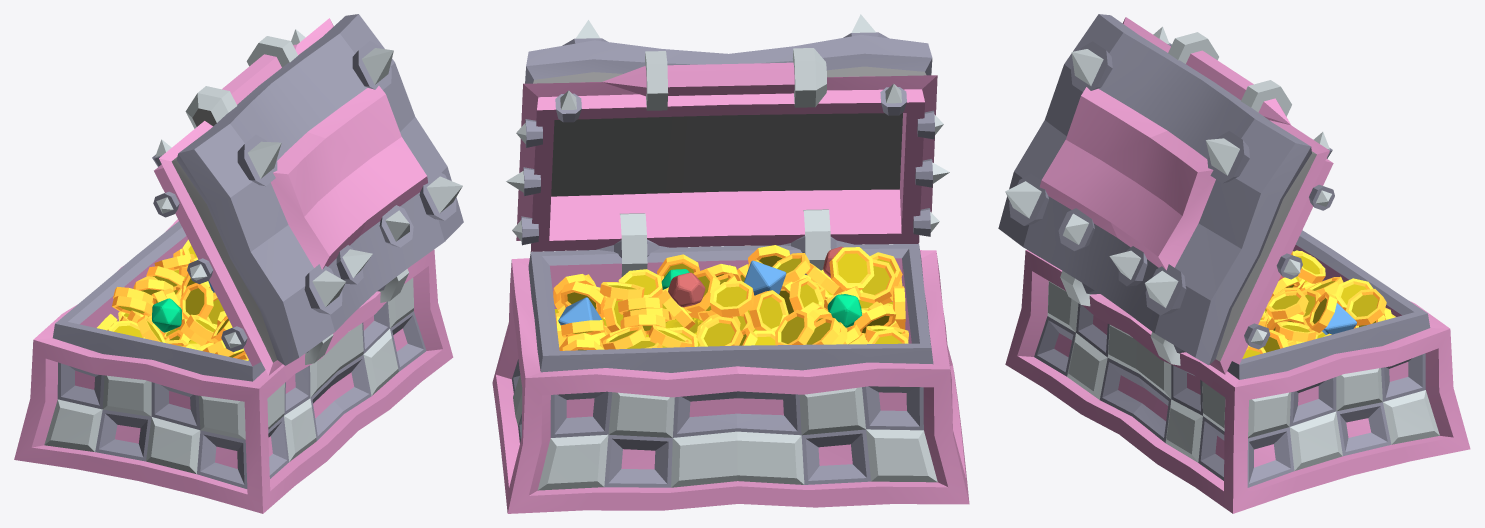
The model's file is Treasure_Chest_5c.fbx.
The picture shows the model from 3 angles, left to right: view 1: azimuth 30°, elevation 25°; view 2: azimuth 150°, elevation 25°; view 3: azimuth 270°, elevation 25°; orthographic projection. The views are drawn at different scales.
Parts seen in each view (by area): view 1: Opened, Treasure_Chest_5c, Gold; view 2: Treasure_Chest_5c, Opened, Gold; view 3: Opened, Treasure_Chest_5c, Gold.
Part boxes in pixels (x1,y1,x2,y2): Opened: [152, 14, 463, 375]; Treasure_Chest_5c: [14, 219, 453, 513]; Gold: [97, 239, 248, 360]; Treasure_Chest_5c: [492, 209, 969, 513]; Opened: [506, 14, 949, 251]; Gold: [553, 245, 908, 350]; Opened: [998, 14, 1334, 374]; Treasure_Chest_5c: [1005, 230, 1470, 513]; Gold: [1242, 250, 1395, 358].
Size of the model in its own units: 562 by 425 by 524.
